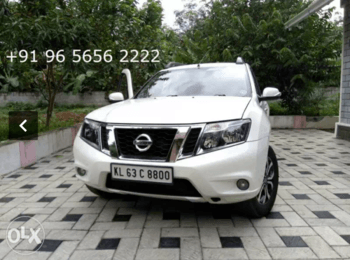number_plate: (107, 160, 179, 187)
